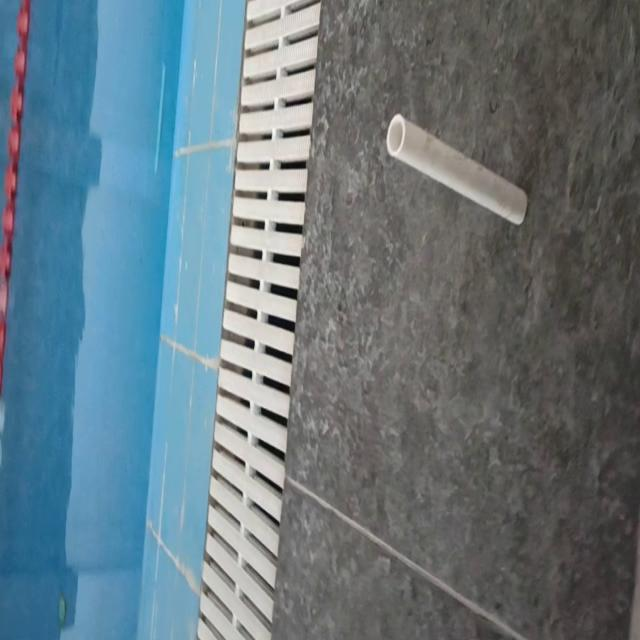Cube: (385, 110, 528, 227)
